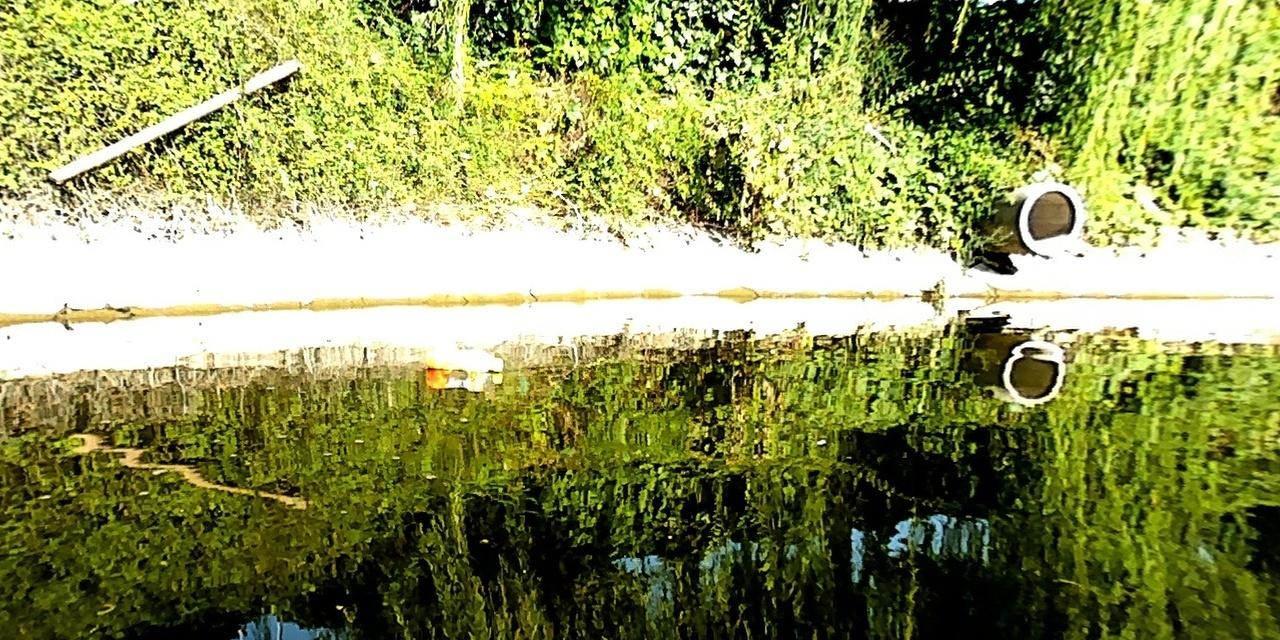bottle: (423, 343, 502, 371)
